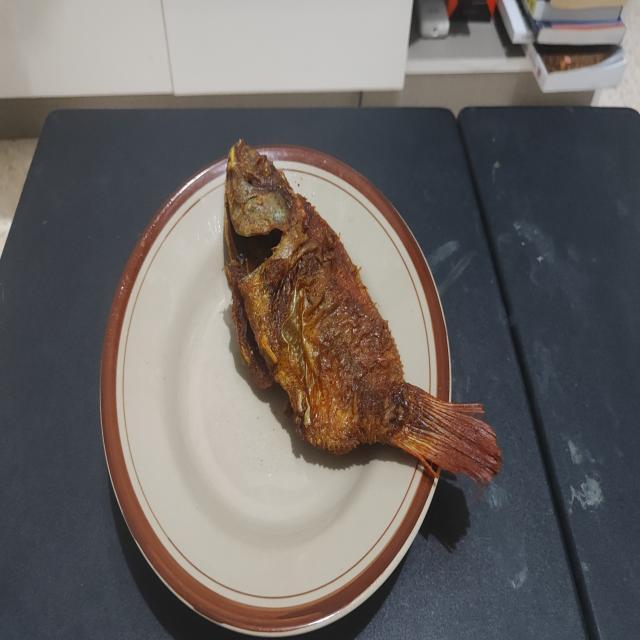ikan_mujair: (224, 140, 501, 483)
